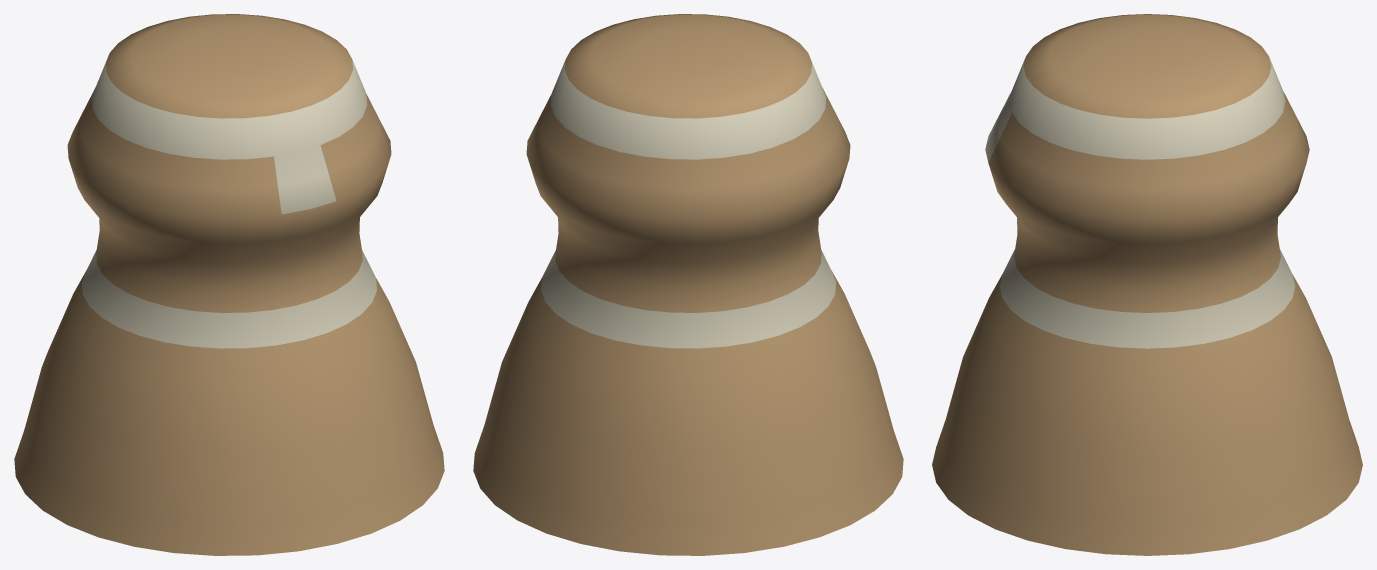
File: body.gltf
3 renders of one model, left to right at view 1: azimuth 30°, elevation 25°; view 2: azimuth 150°, elevation 25°; view 3: azimuth 270°, elevation 25°, orthographic.
Visible parts, largest first — view 1: Sphere.142; view 2: Sphere.142; view 3: Sphere.142.
Boxes of the visible parts, x1,y1,x2,y2 form: Sphere.142: (14, 14, 444, 555); Sphere.142: (473, 14, 903, 555); Sphere.142: (932, 14, 1362, 555).
Bounding box in the file's own units: 0.3694 × 0.3939 × 0.3694.
Materials: 2 (2 with a texture image).
